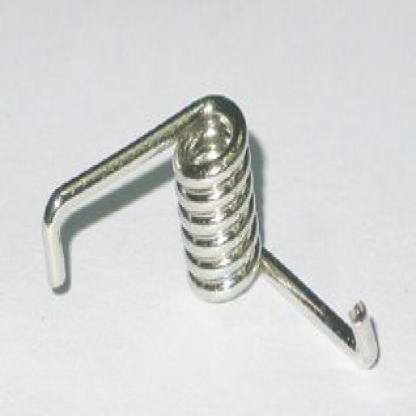FOD: (41, 91, 389, 371)
